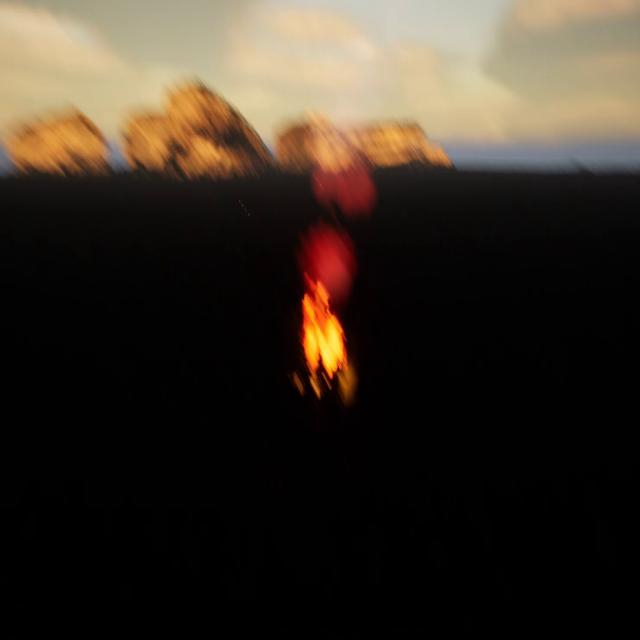fire: (300, 277, 352, 385)
smoke: (299, 157, 374, 284)
